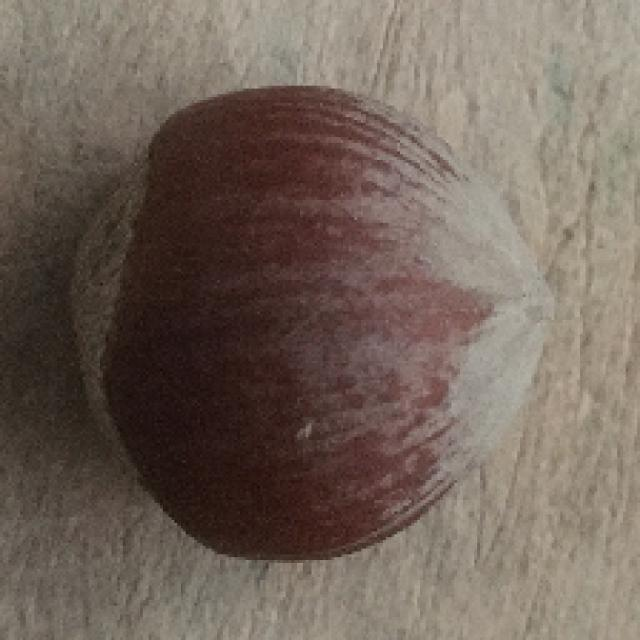QualityHazelnut: (69, 85, 554, 566)
